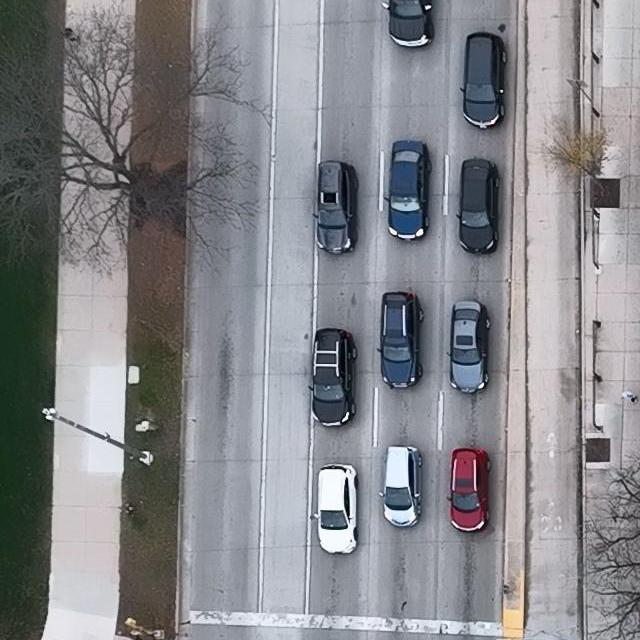car: (383, 140, 433, 241), (376, 291, 425, 390), (459, 31, 508, 129), (309, 329, 357, 427), (456, 158, 501, 253), (313, 160, 358, 255), (314, 463, 359, 555), (447, 300, 490, 395), (445, 448, 491, 533), (379, 446, 425, 529), (381, 0, 434, 47)
